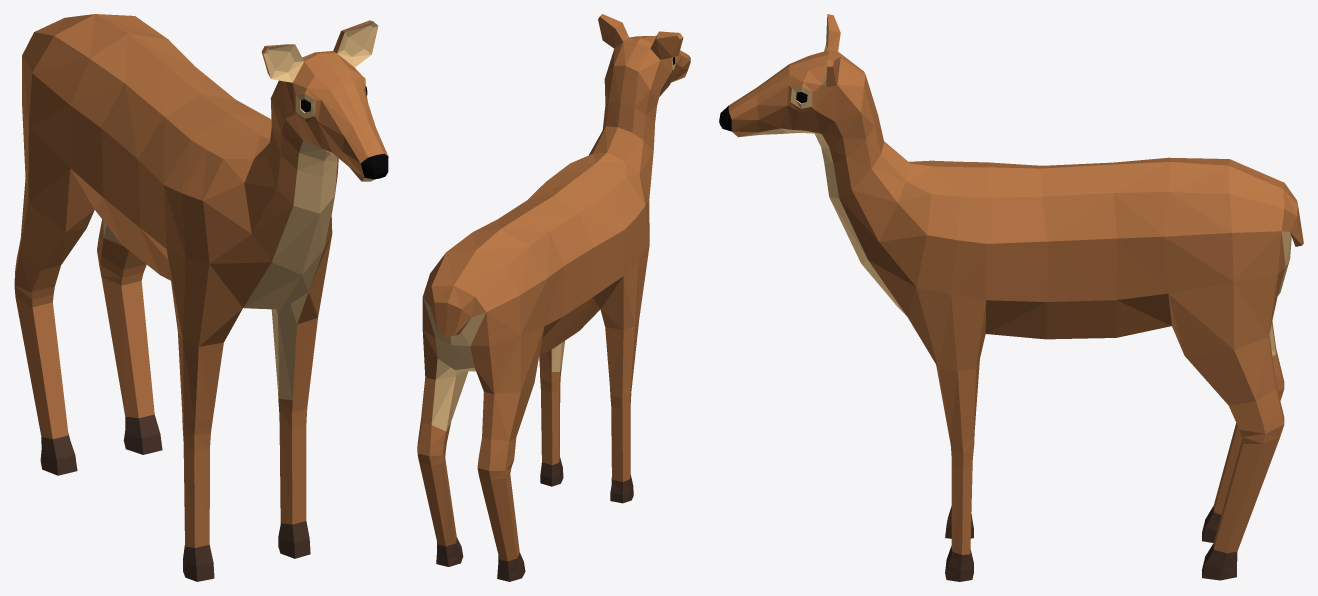
File: Doe.fbx
3 views of the same model, side by side, from view 1: azimuth 30°, elevation 25°; view 2: azimuth 150°, elevation 25°; view 3: azimuth 270°, elevation 25° (orthographic). The views are drawn at different scales.
Visible parts, largest first — view 1: TriangulatedDoe; view 2: TriangulatedDoe; view 3: TriangulatedDoe.
Boxes of the visible parts, x1,y1,x2,y2 form: TriangulatedDoe: [14, 14, 388, 581]; TriangulatedDoe: [417, 14, 690, 581]; TriangulatedDoe: [719, 14, 1303, 581].
Size of the model in its own units: 34.21 by 141 by 144.
